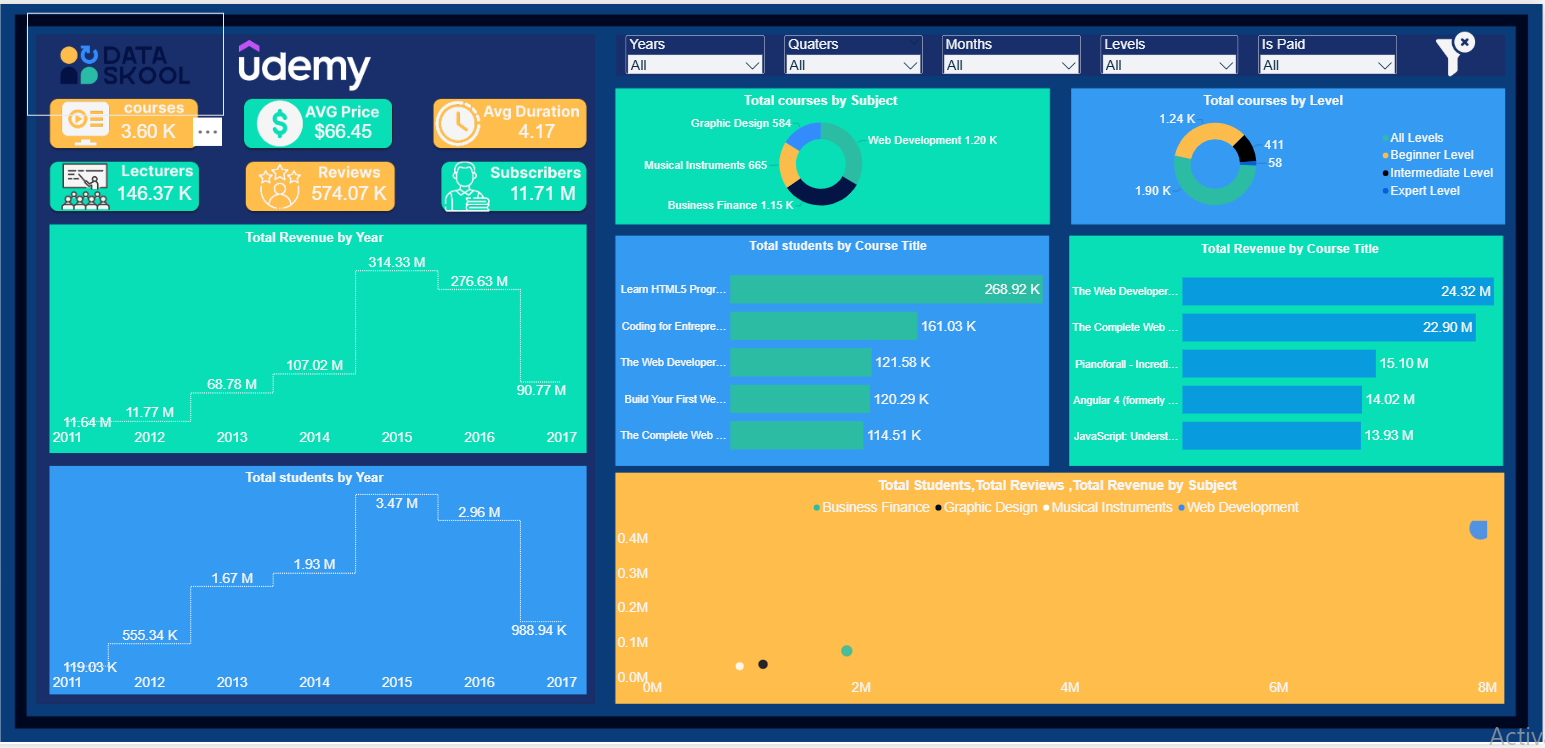

What the dashboard file says about the page in this screenshot:
{"tool":"powerbi","page":{"name":"Udemy","canvas":[3660,1743],"ordinal":0},"visuals":[{"type":"scatterChart","title":"Total Students,Total Reviews ,Total Revenue by Subject","fields":{"Series":["Udemy Courses.Subject"],"X":["Sum(Udemy Courses.Students)"],"Y":["Sum(Udemy Courses.Reviews)"],"Size":["Sum(Udemy Courses.Total Revenue)"]},"box":[1467.6,1100,2100,544.1],"z":0},{"type":"donutChart","fields":{"Category":["Udemy Courses.Subject"],"Y":["Dax measures.Total courses"]},"box":[2500,194.1,1158.8,320.6],"z":1000},{"type":"donutChart","fields":{"Category":["Udemy Courses.Subject"],"Y":["Dax measures.Total courses"]},"box":[1247.1,194.1,1429.4,320.6],"z":2000},{"type":"slicer","title":"Years","fields":{"Values":["Calendar table.Year"]},"box":[1502.9,73.5,326.5,91.2],"z":3000},{"type":"slicer","fields":{"Values":["Calendar table.Quater"]},"box":[1876.2,73.1,325,91],"z":4000},{"type":"slicer","fields":{"Values":["Calendar table.Month Name"]},"box":[2247.9,72.9,326.5,91.2],"z":5000},{"type":"slicer","fields":{"Values":["Udemy Courses.Is Paid"]},"box":[2991.5,73.5,326.5,91.2],"z":6000},{"type":"slicer","fields":{"Values":["Udemy Courses.Level"]},"box":[2621.2,72.9,323.5,91.2],"z":7000},{"type":"lineChart","fields":{"Category":["Calendar table.DateHierarchy.Year","Calendar table.DateHierarchy.Quater","Calendar table.DateHierarchy.month Numbre","Calendar table.DateHierarchy.Date"],"Y":["Dax measures.Total Revenue"]},"box":[138.2,517.6,1264.7,538.2],"z":8000},{"type":"lineChart","fields":{"Category":["Calendar table.DateHierarchy.Year","Calendar table.DateHierarchy.Quater","Calendar table.DateHierarchy.month Numbre","Calendar table.DateHierarchy.Date"],"Y":["Dax measures.Total students"]},"box":[138.2,1082.4,1264.7,550],"z":9000},{"type":"barChart","fields":{"Category":["Udemy Courses.Course Title"],"Y":["Dax measures.Total students"]},"box":[1458.8,538.2,1088.2,561.8],"z":10000},{"type":"barChart","fields":{"Category":["Udemy Courses.Course Title"],"Y":["Dax measures.Total Revenue"]},"box":[2523.5,544.1,1085.3,555.9],"z":11000},{"type":"card","fields":{"Values":["Dax measures.Total courses"]},"box":[297.1,244.1,164,105],"z":12000},{"type":"card","fields":{"Values":["Dax measures.Avg price"]},"box":[754.4,244.1,164,105],"z":13000},{"type":"card","fields":{"Values":["Dax measures.Total Duration"]},"box":[1211.8,243.2,164.7,105.9],"z":14000},{"type":"card","fields":{"Values":["Dax measures.Total Lecturers"]},"box":[297.1,391.2,191,105],"z":15000},{"type":"card","fields":{"Values":["Dax measures.Total students"]},"box":[1211.8,391.2,191,105],"z":16000},{"type":"card","fields":{"Values":["Dax measures.Total Reviews"]},"box":[754.4,391.2,191,105],"z":17000},{"type":"image","box":[94.1,20.6,461.8,244.1],"z":18000},{"type":"image","box":[3282.4,50,347.1,135.3],"z":19000}]}

Visuals, with their boxes in screenshot pixels (x1, y1, x2, y2), scaled from the page's 3660x1743 canvas onto the 1545x748 screenshot:
"Total Students,Total Reviews ,Total Revenue by Subject" scatterChart: 620:472:1506:706
donutChart - Udemy Courses.Subject x Dax measures.Total courses: 1055:83:1544:221
donutChart - Udemy Courses.Subject x Dax measures.Total courses: 526:83:1130:221
"Years" slicer: 634:32:772:71
slicer - Calendar table.Quater: 792:31:929:70
slicer - Calendar table.Month Name: 949:31:1087:70
slicer - Udemy Courses.Is Paid: 1263:32:1401:71
slicer - Udemy Courses.Level: 1106:31:1243:70
lineChart - Calendar table.DateHierarchy.Year x Calendar table.DateHierarchy.Quater: 58:222:592:453
lineChart - Calendar table.DateHierarchy.Year x Calendar table.DateHierarchy.Quater: 58:465:592:701
barChart - Udemy Courses.Course Title x Dax measures.Total students: 616:231:1075:472
barChart - Udemy Courses.Course Title x Dax measures.Total Revenue: 1065:233:1523:472
card - Dax measures.Total courses: 125:105:195:150
card - Dax measures.Avg price: 318:105:388:150
card - Dax measures.Total Duration: 512:104:581:150
card - Dax measures.Total Lecturers: 125:168:206:213
card - Dax measures.Total students: 512:168:592:213
card - Dax measures.Total Reviews: 318:168:399:213
image: 40:9:235:114
image: 1386:21:1532:80
